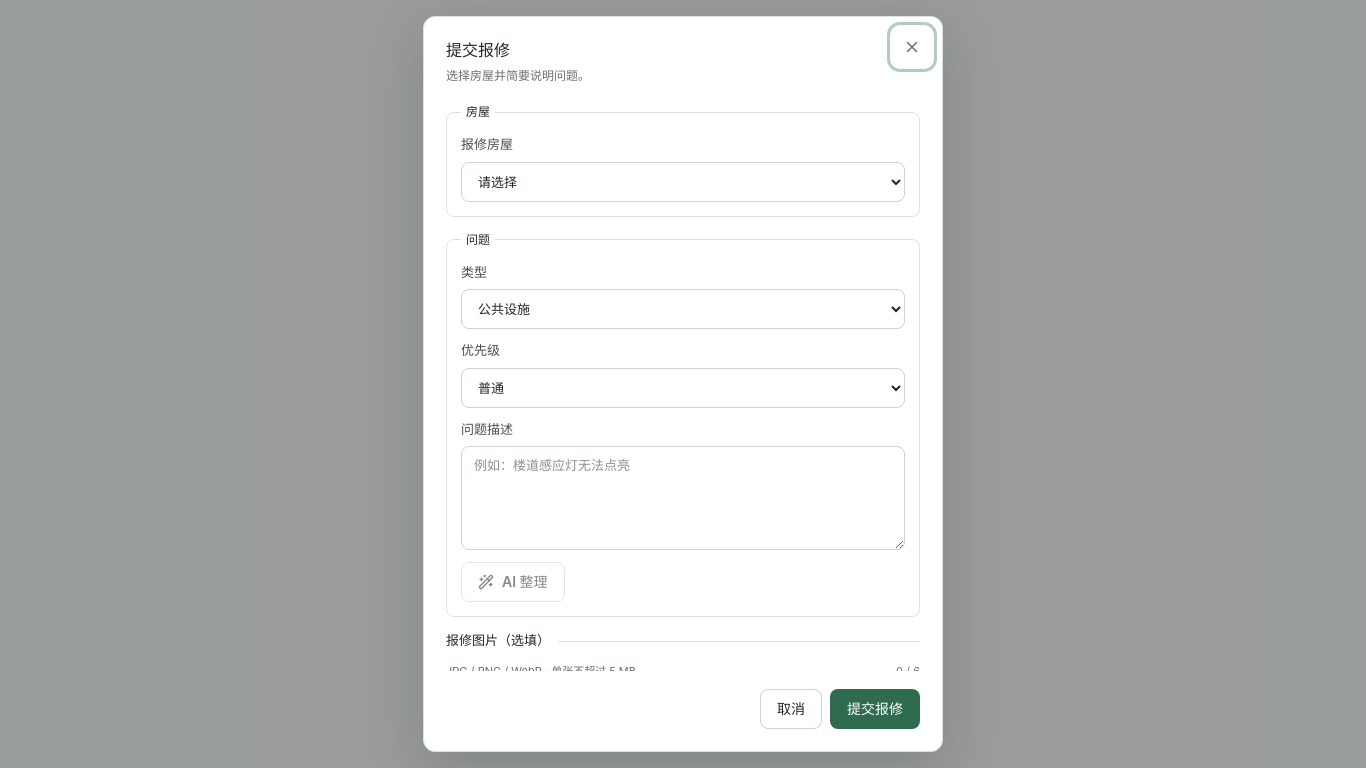
Scenario: AI form assistance › previews a repair suggestion and fills it only on explicit acceptance, without submitting
In the text box labelled "问题描述": (683, 498) [461,446,905,550], type "水龙头漏水关不住"
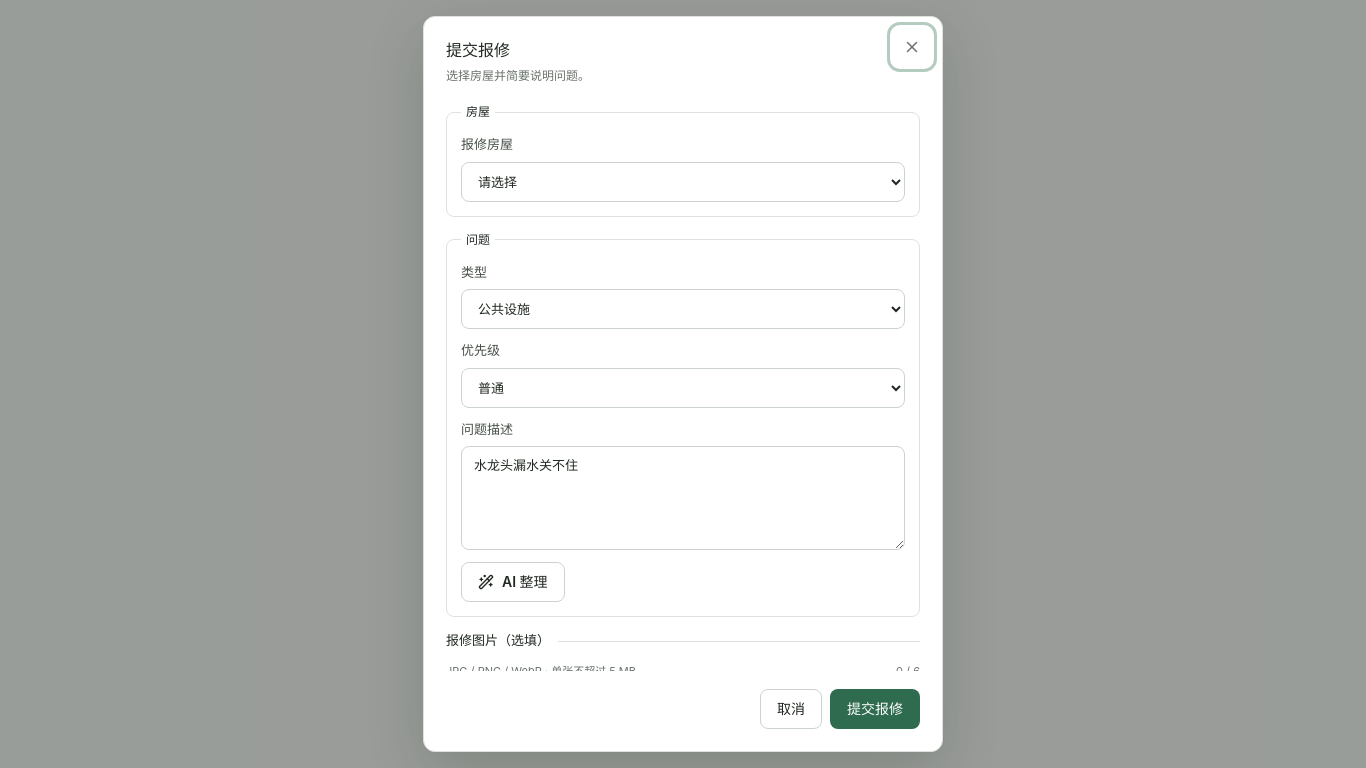
Click the button "AI 整理": click(513, 582) [461,562,565,602]
(page scrolled)
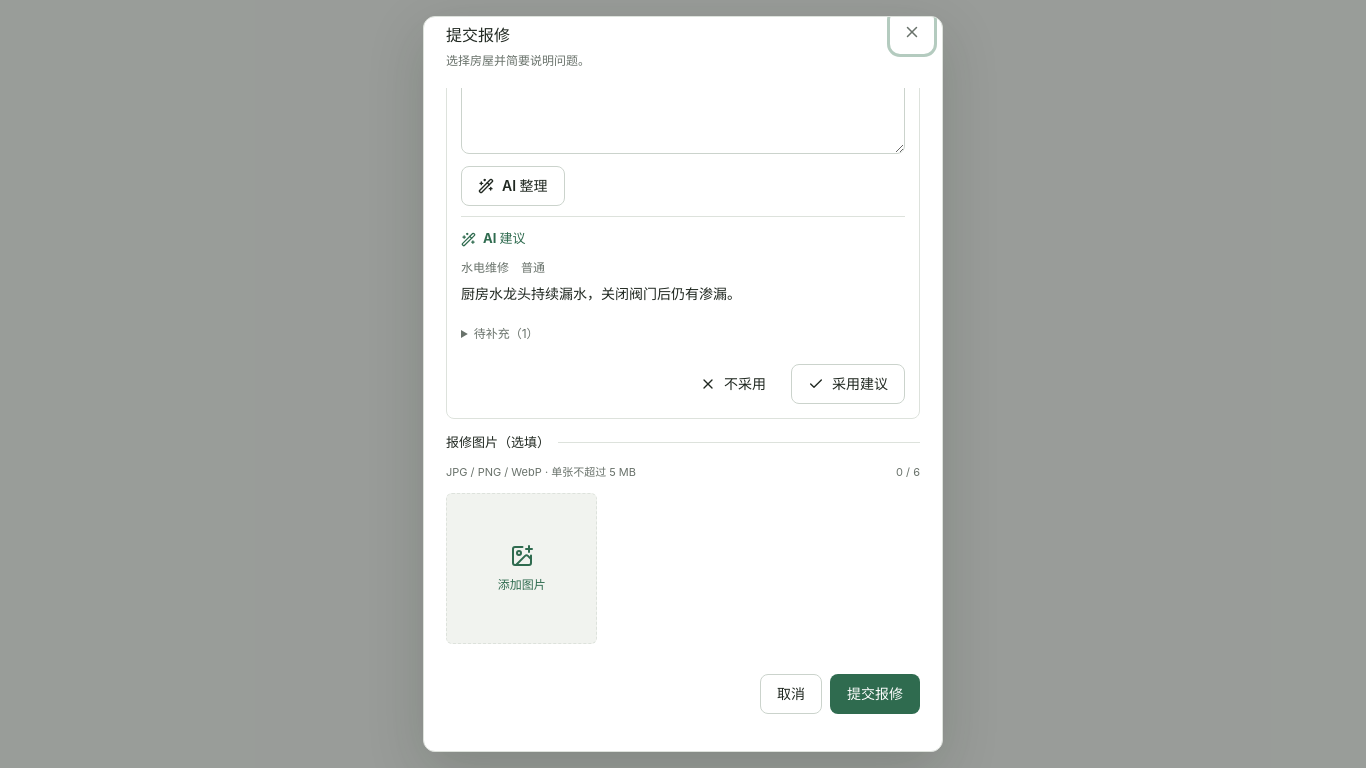
Expected: the text "厨房水龙头持续漏水，关闭阀门后仍有渗漏。" is shown, [461,285,741,302]
Click the button "采用建议": click(848, 384) [791,364,905,404]
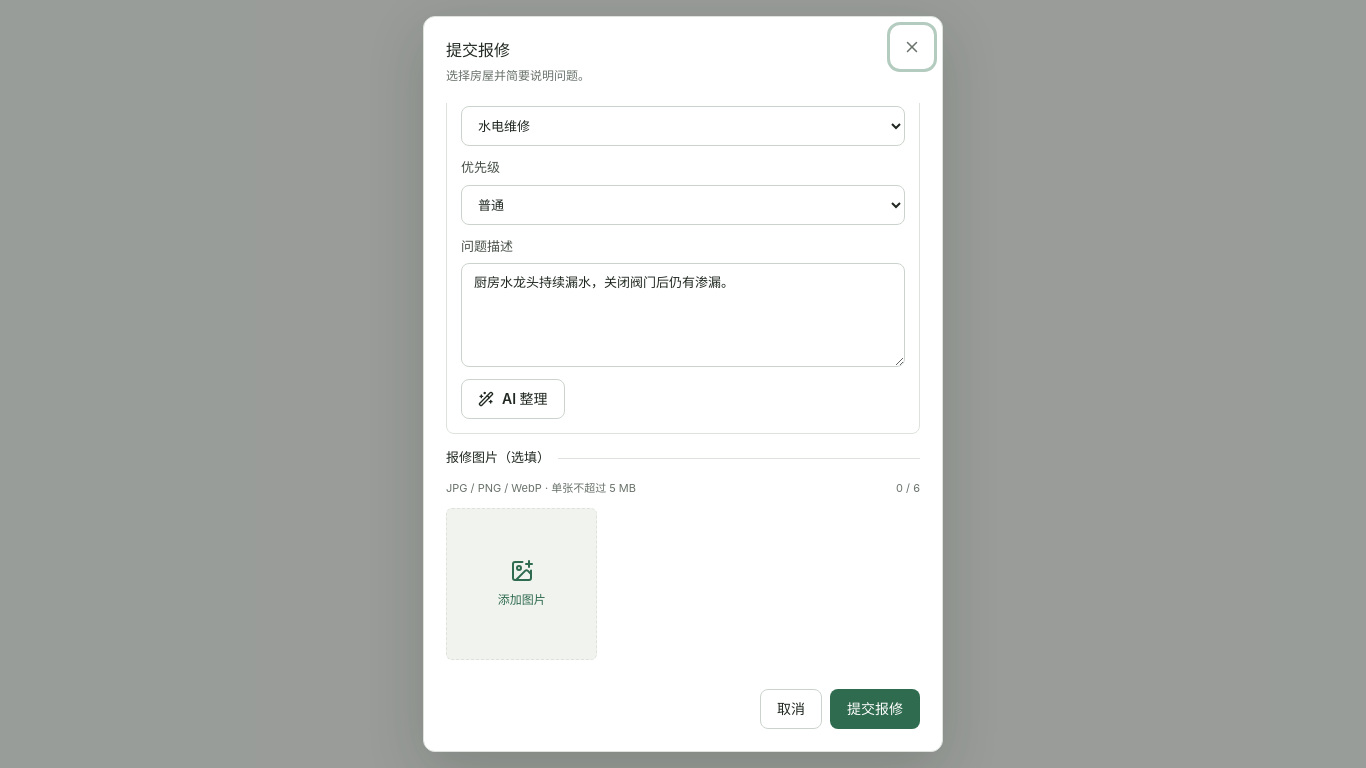
Expected: the text box labelled "问题描述" holds "厨房水龙头持续漏水，关闭阀门后仍有渗漏。", [461,263,905,367]
Expected: the dropdown labelled "类型" shows "水电维修", [461,106,905,146]
